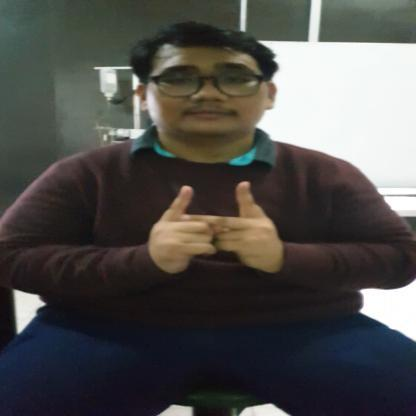H: (142, 182, 286, 276)
